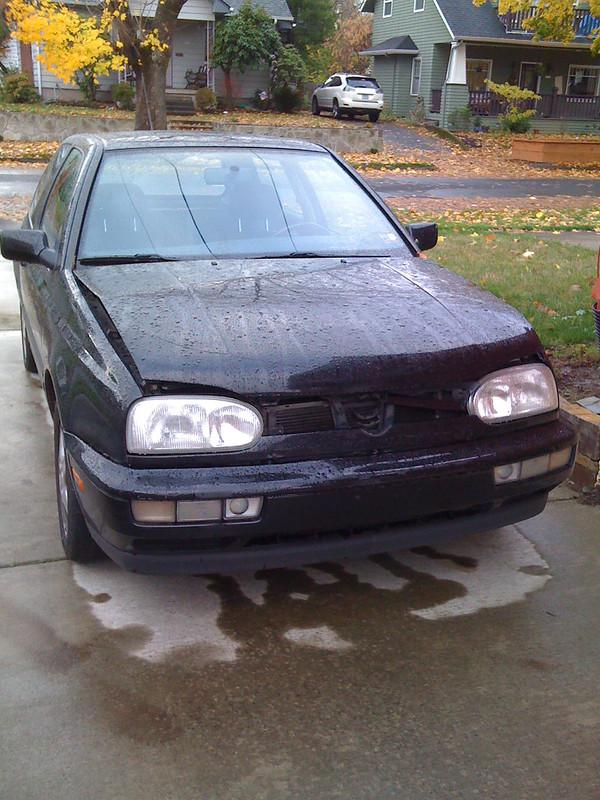bonnet-dent: (91, 264, 464, 408)
